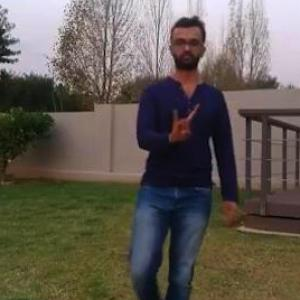takeoff-hand: (168, 96, 203, 142)
